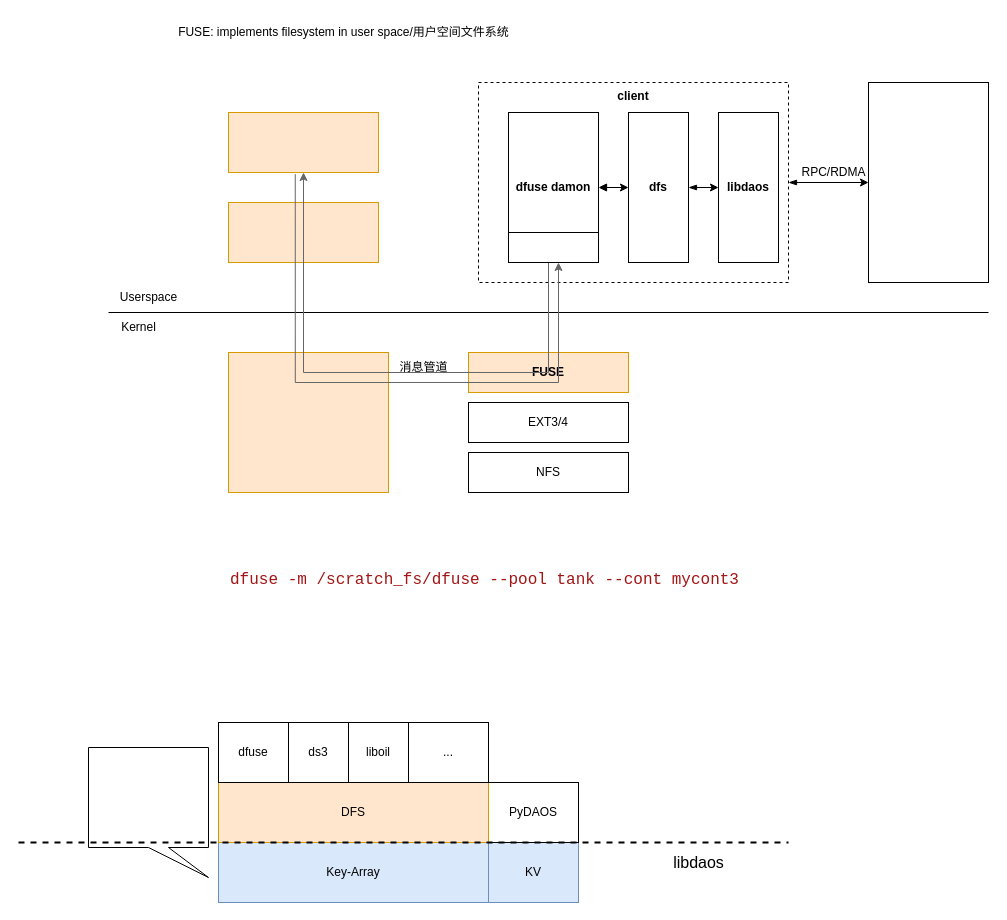
This 1007x920 diagram has some shape labels left out. Here are the shapes that lost their labels. From the top down, the centre of each, then its label:
[303,142]: ls -l opt/dfuse
[928,182]: daos cluster
[303,232]: libc
[553,247]: libfuse
[308,422]: VFS
[148,812]: Key-Array多值接口需要走拆分DK
